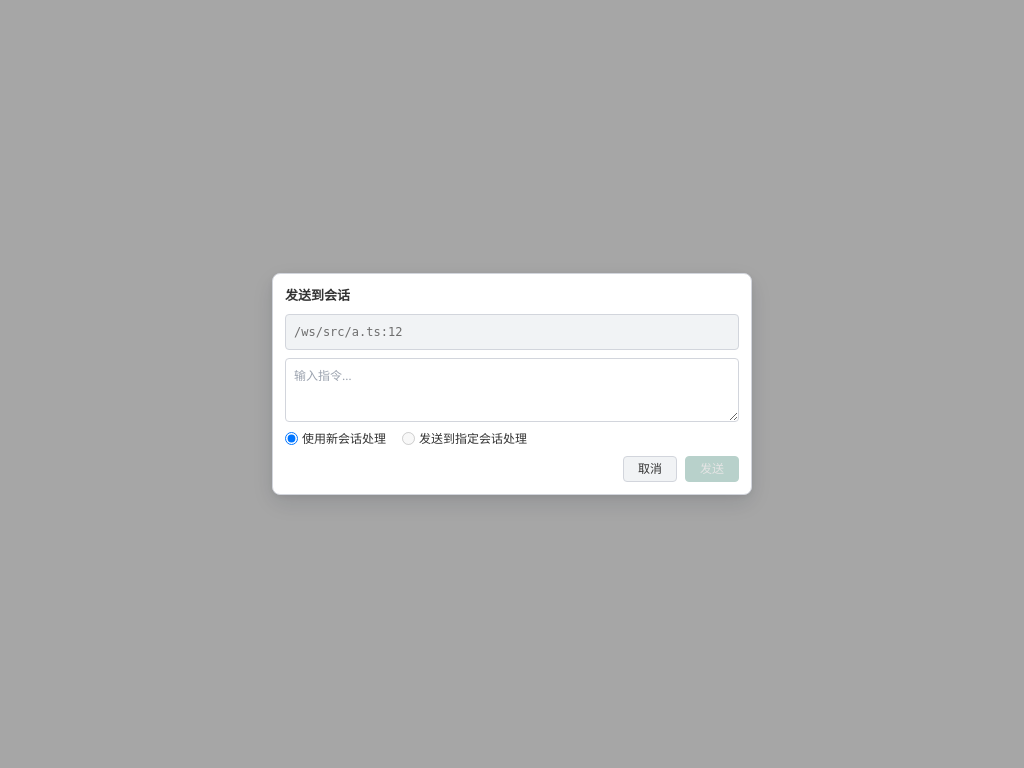
Test case: SendToConversationDialog › {ok:false} 内联报错且不关闭
The image size is (1024, 768).
In the text box with test id "pm-send-dialog-instruction": x=512, y=390 [285,358,739,422], type "x"
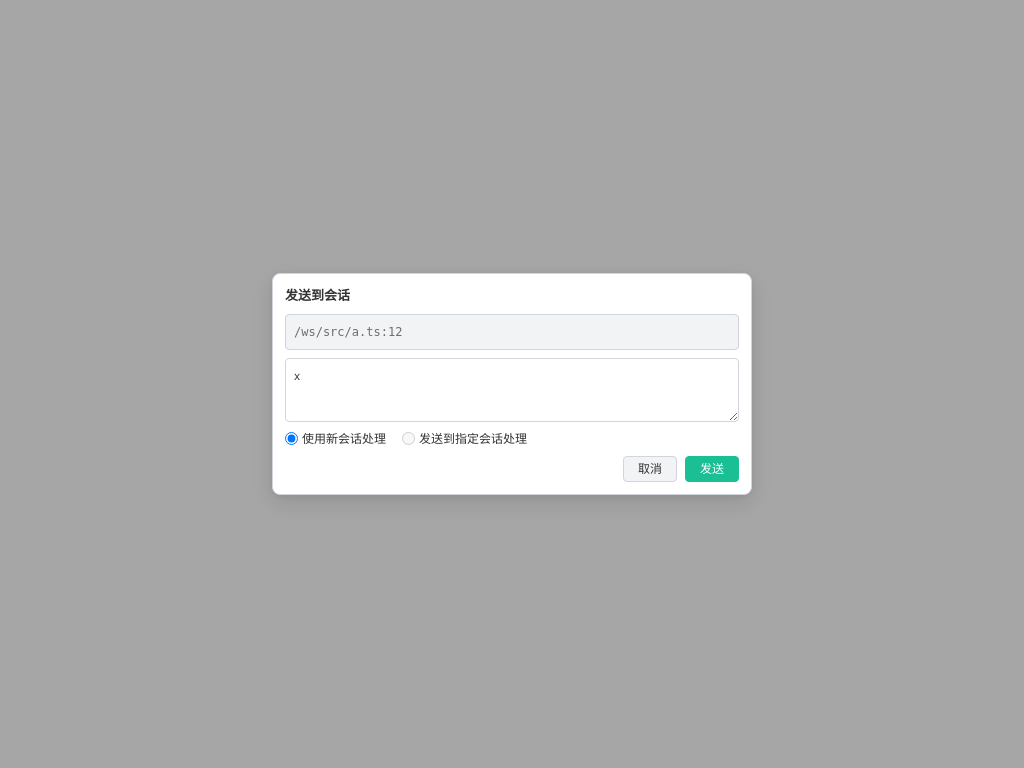
Click the button "发送": x=712, y=469 [685,456,739,482]
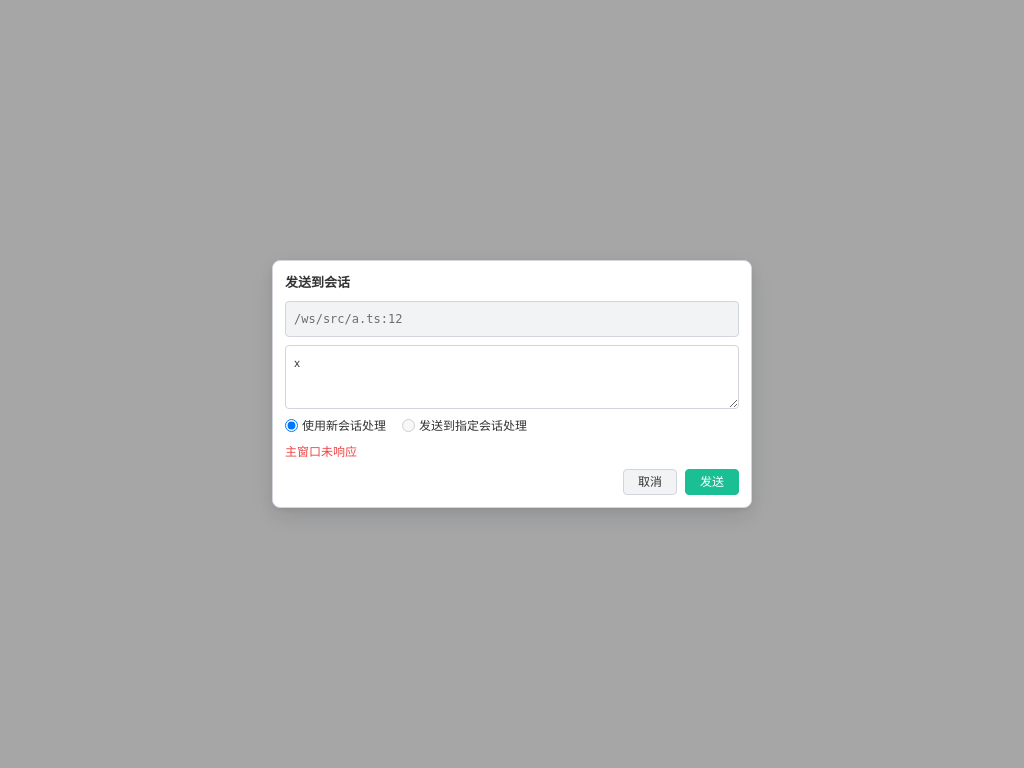
expect the message reads "主窗口未响应": met, box [285,444,357,459]
